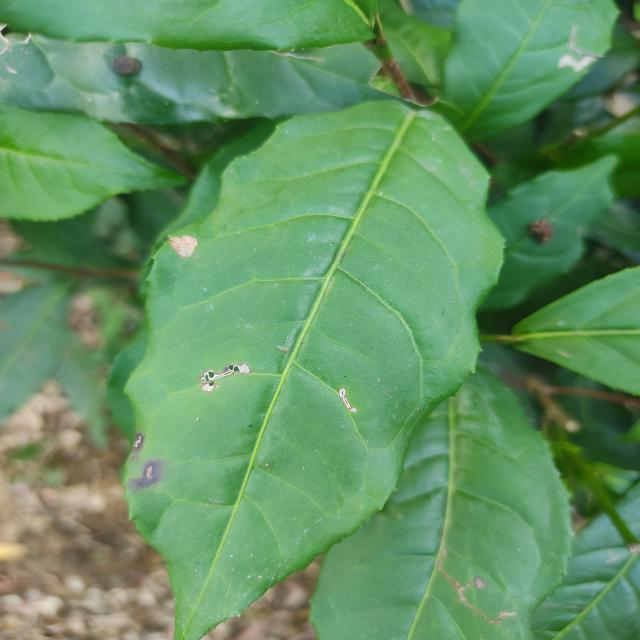Category D(7+ days, Not for Tea): (120, 91, 511, 640)
